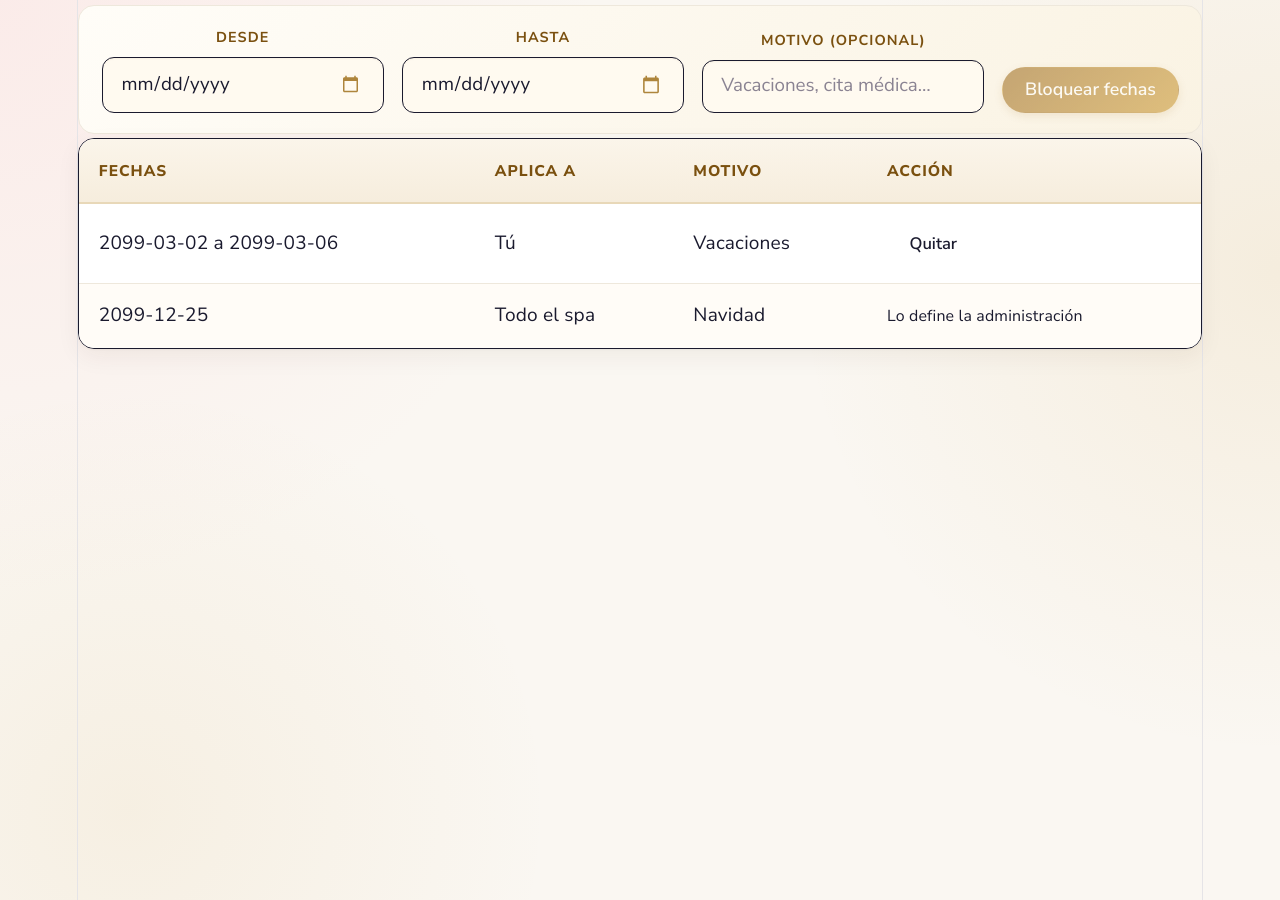
TimeOffManager › muestra el error del backend, por ejemplo si hay citas en esas fechas
Expected: the text "Navidad" is shown, [674, 284, 867, 348]
Type "2099-04-10" into the date field labelled "Desde".
click(243, 85); type("2099-04-10")  # box [102, 57, 384, 113]
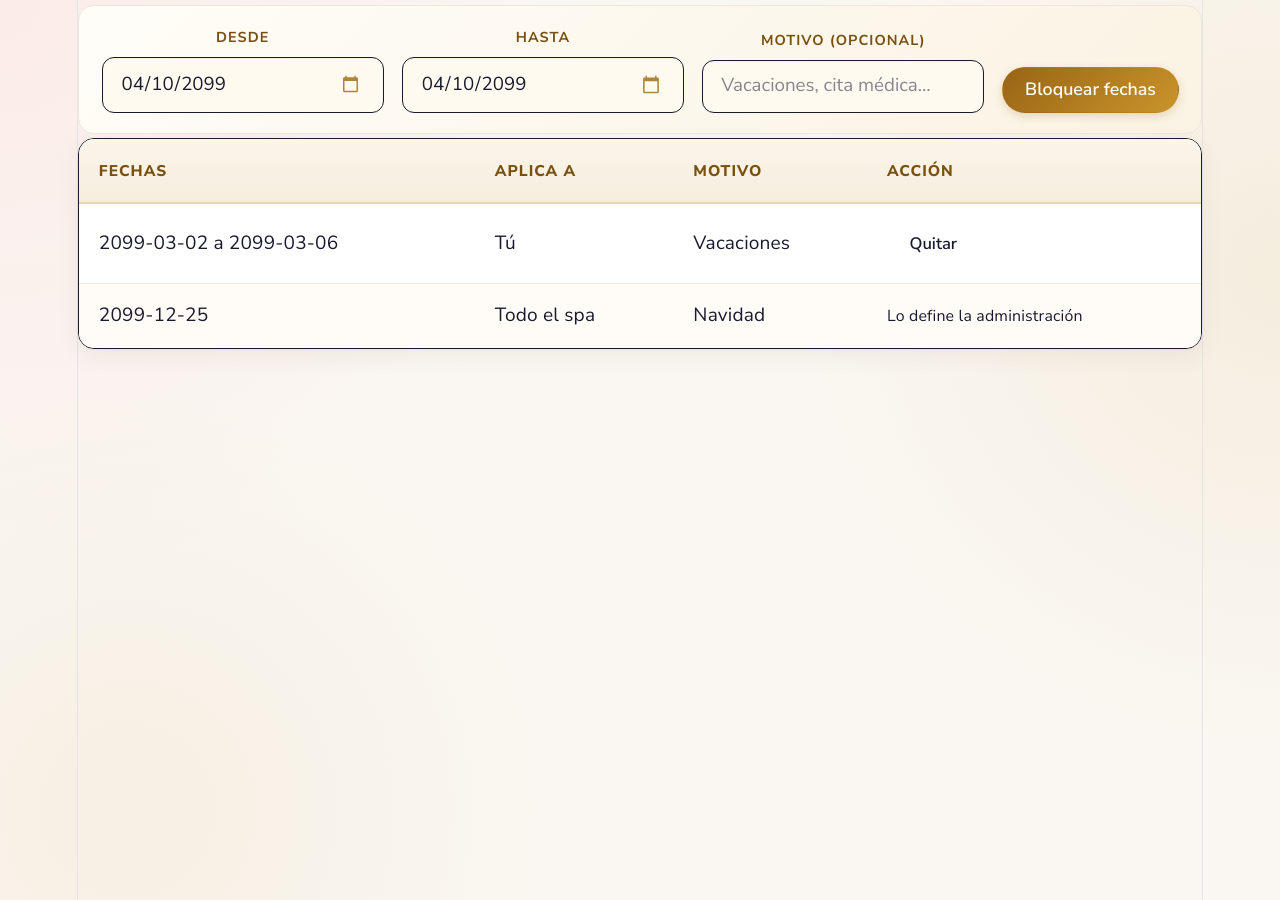
Click the button "Bloquear fechas".
click(1090, 90)  # box [1002, 66, 1178, 113]
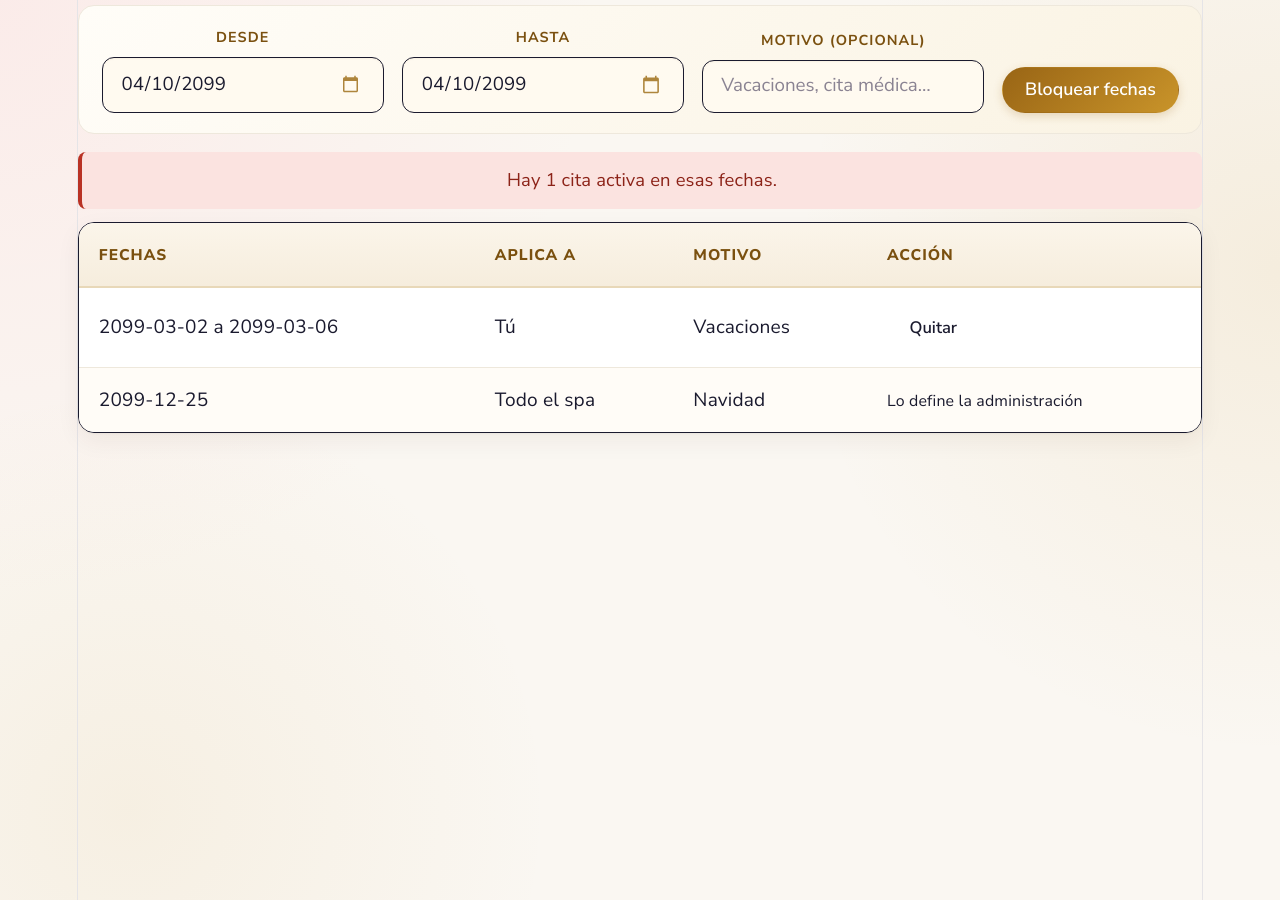
Result: the message reads "Hay 1 cita activa en esas fechas." at [507, 167, 777, 192]
